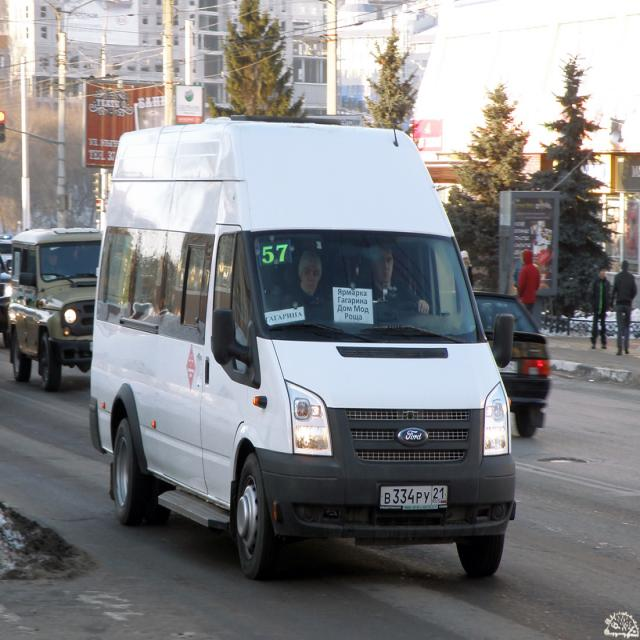number-of-bus: (260, 239, 294, 272)
